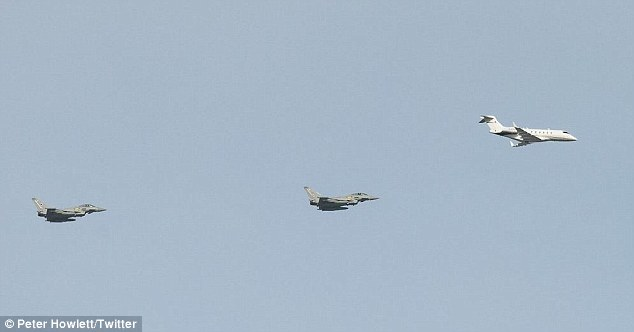plane: (478, 112, 579, 147), (304, 185, 379, 212), (31, 197, 106, 222)
